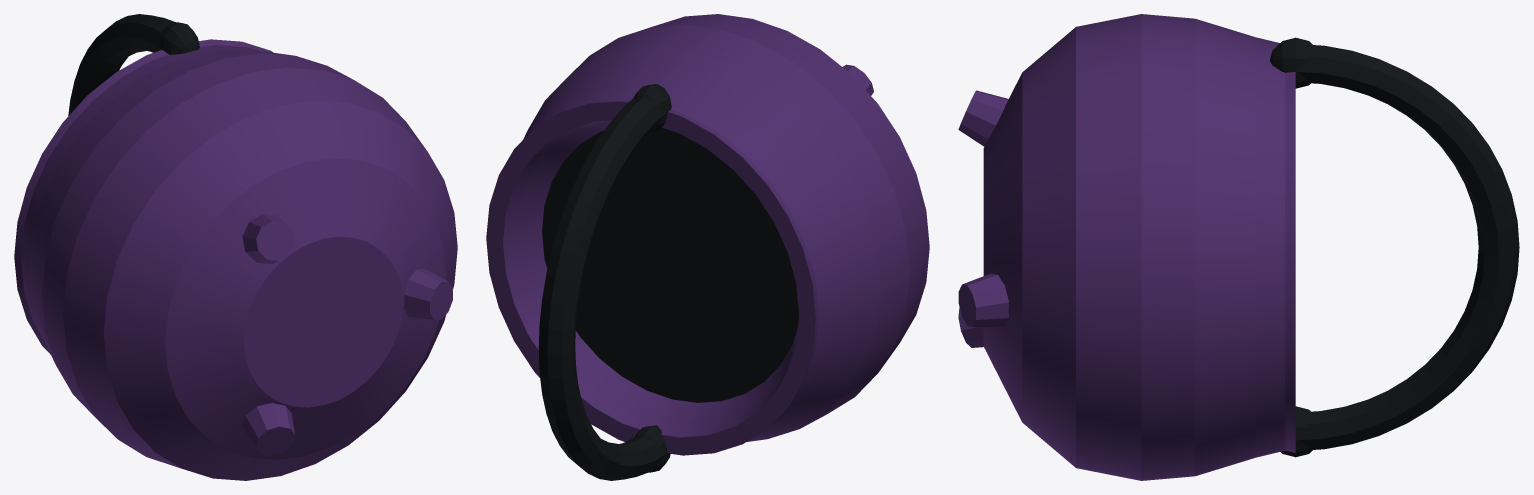
The model's file is EVHalloween_WitchCauldron_Variant2_Held.fbx.
3 renders of one model, left to right at view 1: azimuth 30°, elevation 25°; view 2: azimuth 150°, elevation 25°; view 3: azimuth 270°, elevation 25°, orthographic. The views are drawn at different scales.
Visible parts, largest first — view 1: EVHalloween_Decor_PumpkinOrange; view 2: EVHalloween_Decor_PumpkinOrange; view 3: EVHalloween_Decor_PumpkinOrange.
Boxes of the visible parts, x1,y1,x2,y2 form: EVHalloween_Decor_PumpkinOrange: [14, 14, 457, 480]; EVHalloween_Decor_PumpkinOrange: [486, 14, 929, 480]; EVHalloween_Decor_PumpkinOrange: [958, 14, 1519, 480].
Size of the model in its own units: 40 by 40 by 48.02.
